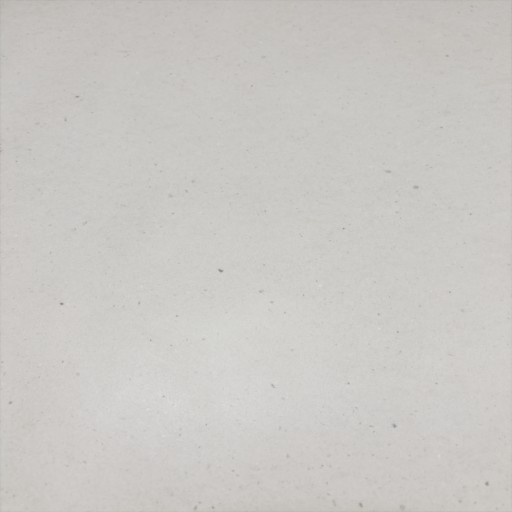lego: (220, 240, 290, 269)
